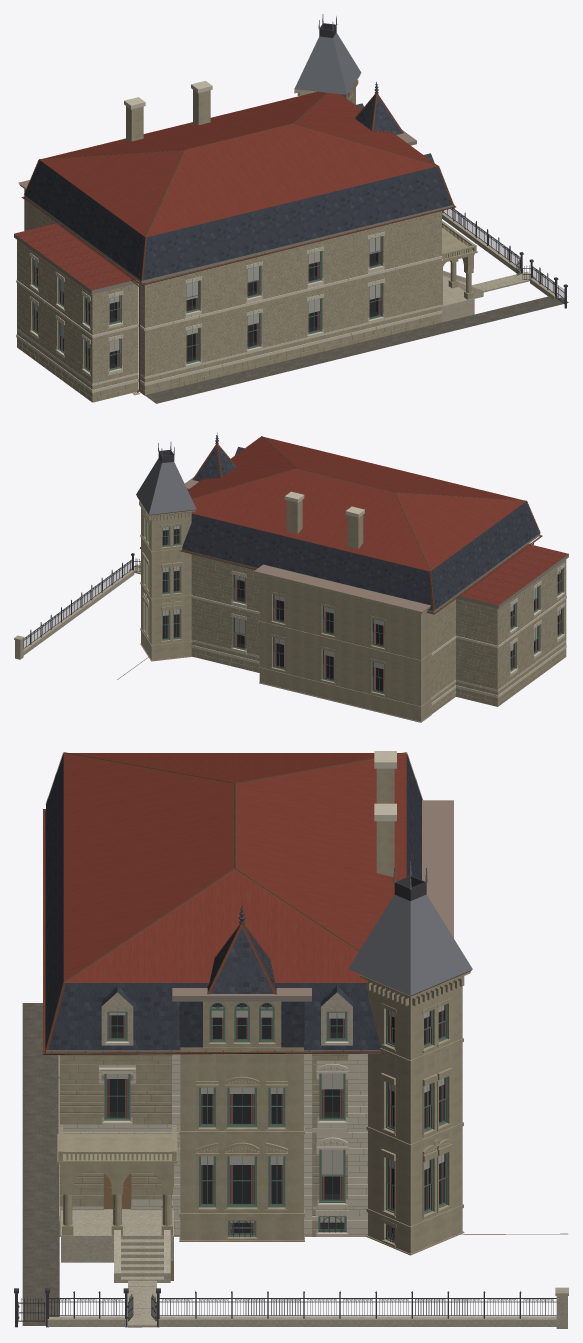
The model's file is doane_house_1827_prairie__as_mapped_1904.glb.
3 renders of one model, top to bottom at view 1: azimuth 30°, elevation 25°; view 2: azimuth 150°, elevation 25°; view 3: azimuth 270°, elevation 25°, orthographic. The views are drawn at different scales.
Parts seen in each view (by area): view 1: doane_house_1827_prairie__as_mapped_1904; view 2: doane_house_1827_prairie__as_mapped_1904; view 3: doane_house_1827_prairie__as_mapped_1904.
Boxes of the visible parts, x1,y1,x2,y2 form: doane_house_1827_prairie__as_mapped_1904: (14, 14, 568, 403); doane_house_1827_prairie__as_mapped_1904: (14, 432, 568, 722); doane_house_1827_prairie__as_mapped_1904: (14, 751, 568, 1328).
Size of the model in its own units: 37.82 by 17.95 by 24.52.
24 materials, 12 textured.
